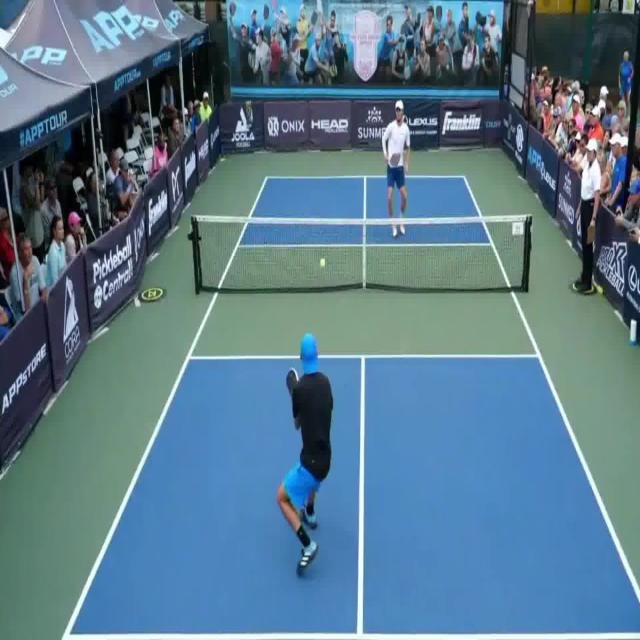Court: (65, 176, 640, 633)
ball: (319, 255, 327, 269)
